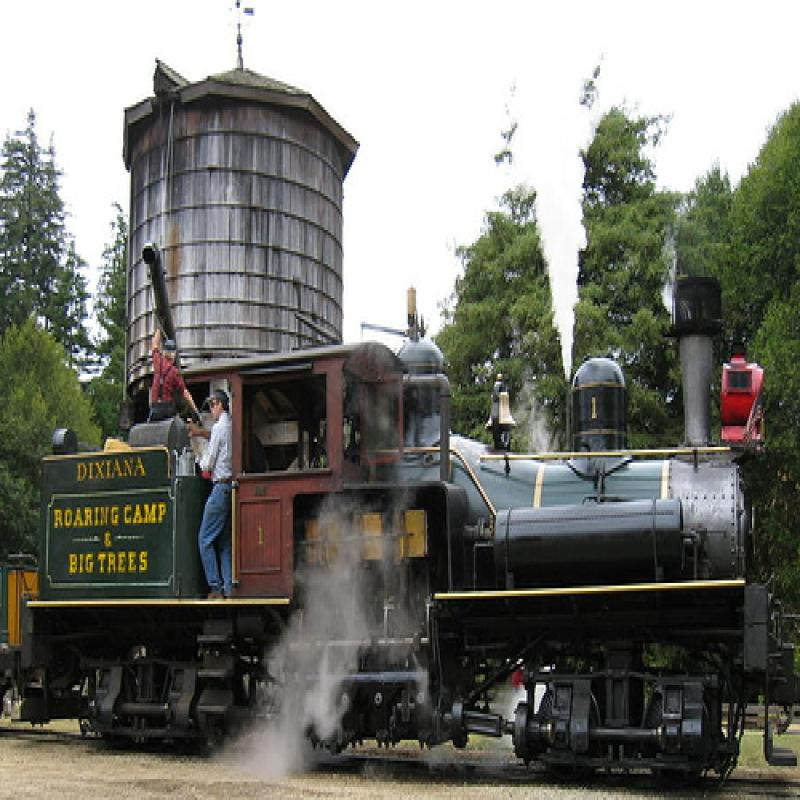train: (1, 272, 799, 798)
